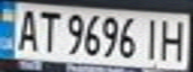6: (118, 15, 142, 60), (81, 11, 103, 57)
9: (60, 10, 84, 56), (100, 12, 121, 59)
A: (12, 6, 42, 52)
H: (157, 16, 190, 62)
I: (139, 16, 163, 61)
T: (33, 7, 63, 53)
